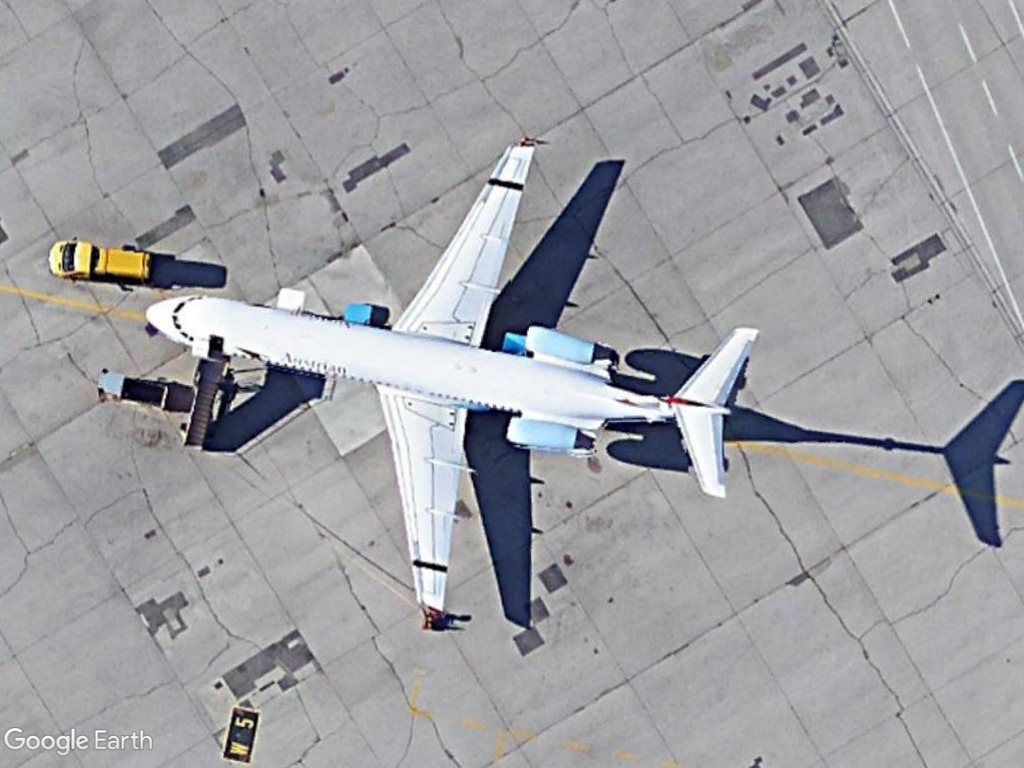chartered: (138, 124, 762, 635)
others: (48, 235, 157, 287)
stairtruck: (174, 350, 233, 455)
